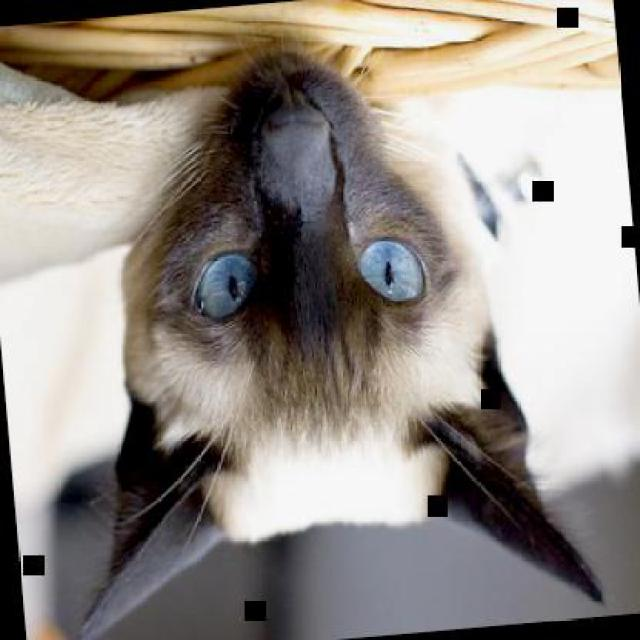cat: (23, 36, 608, 638)
